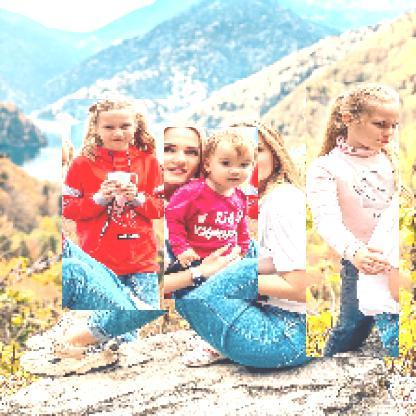child: (307, 83, 401, 359), (63, 100, 177, 312), (165, 128, 260, 301)
